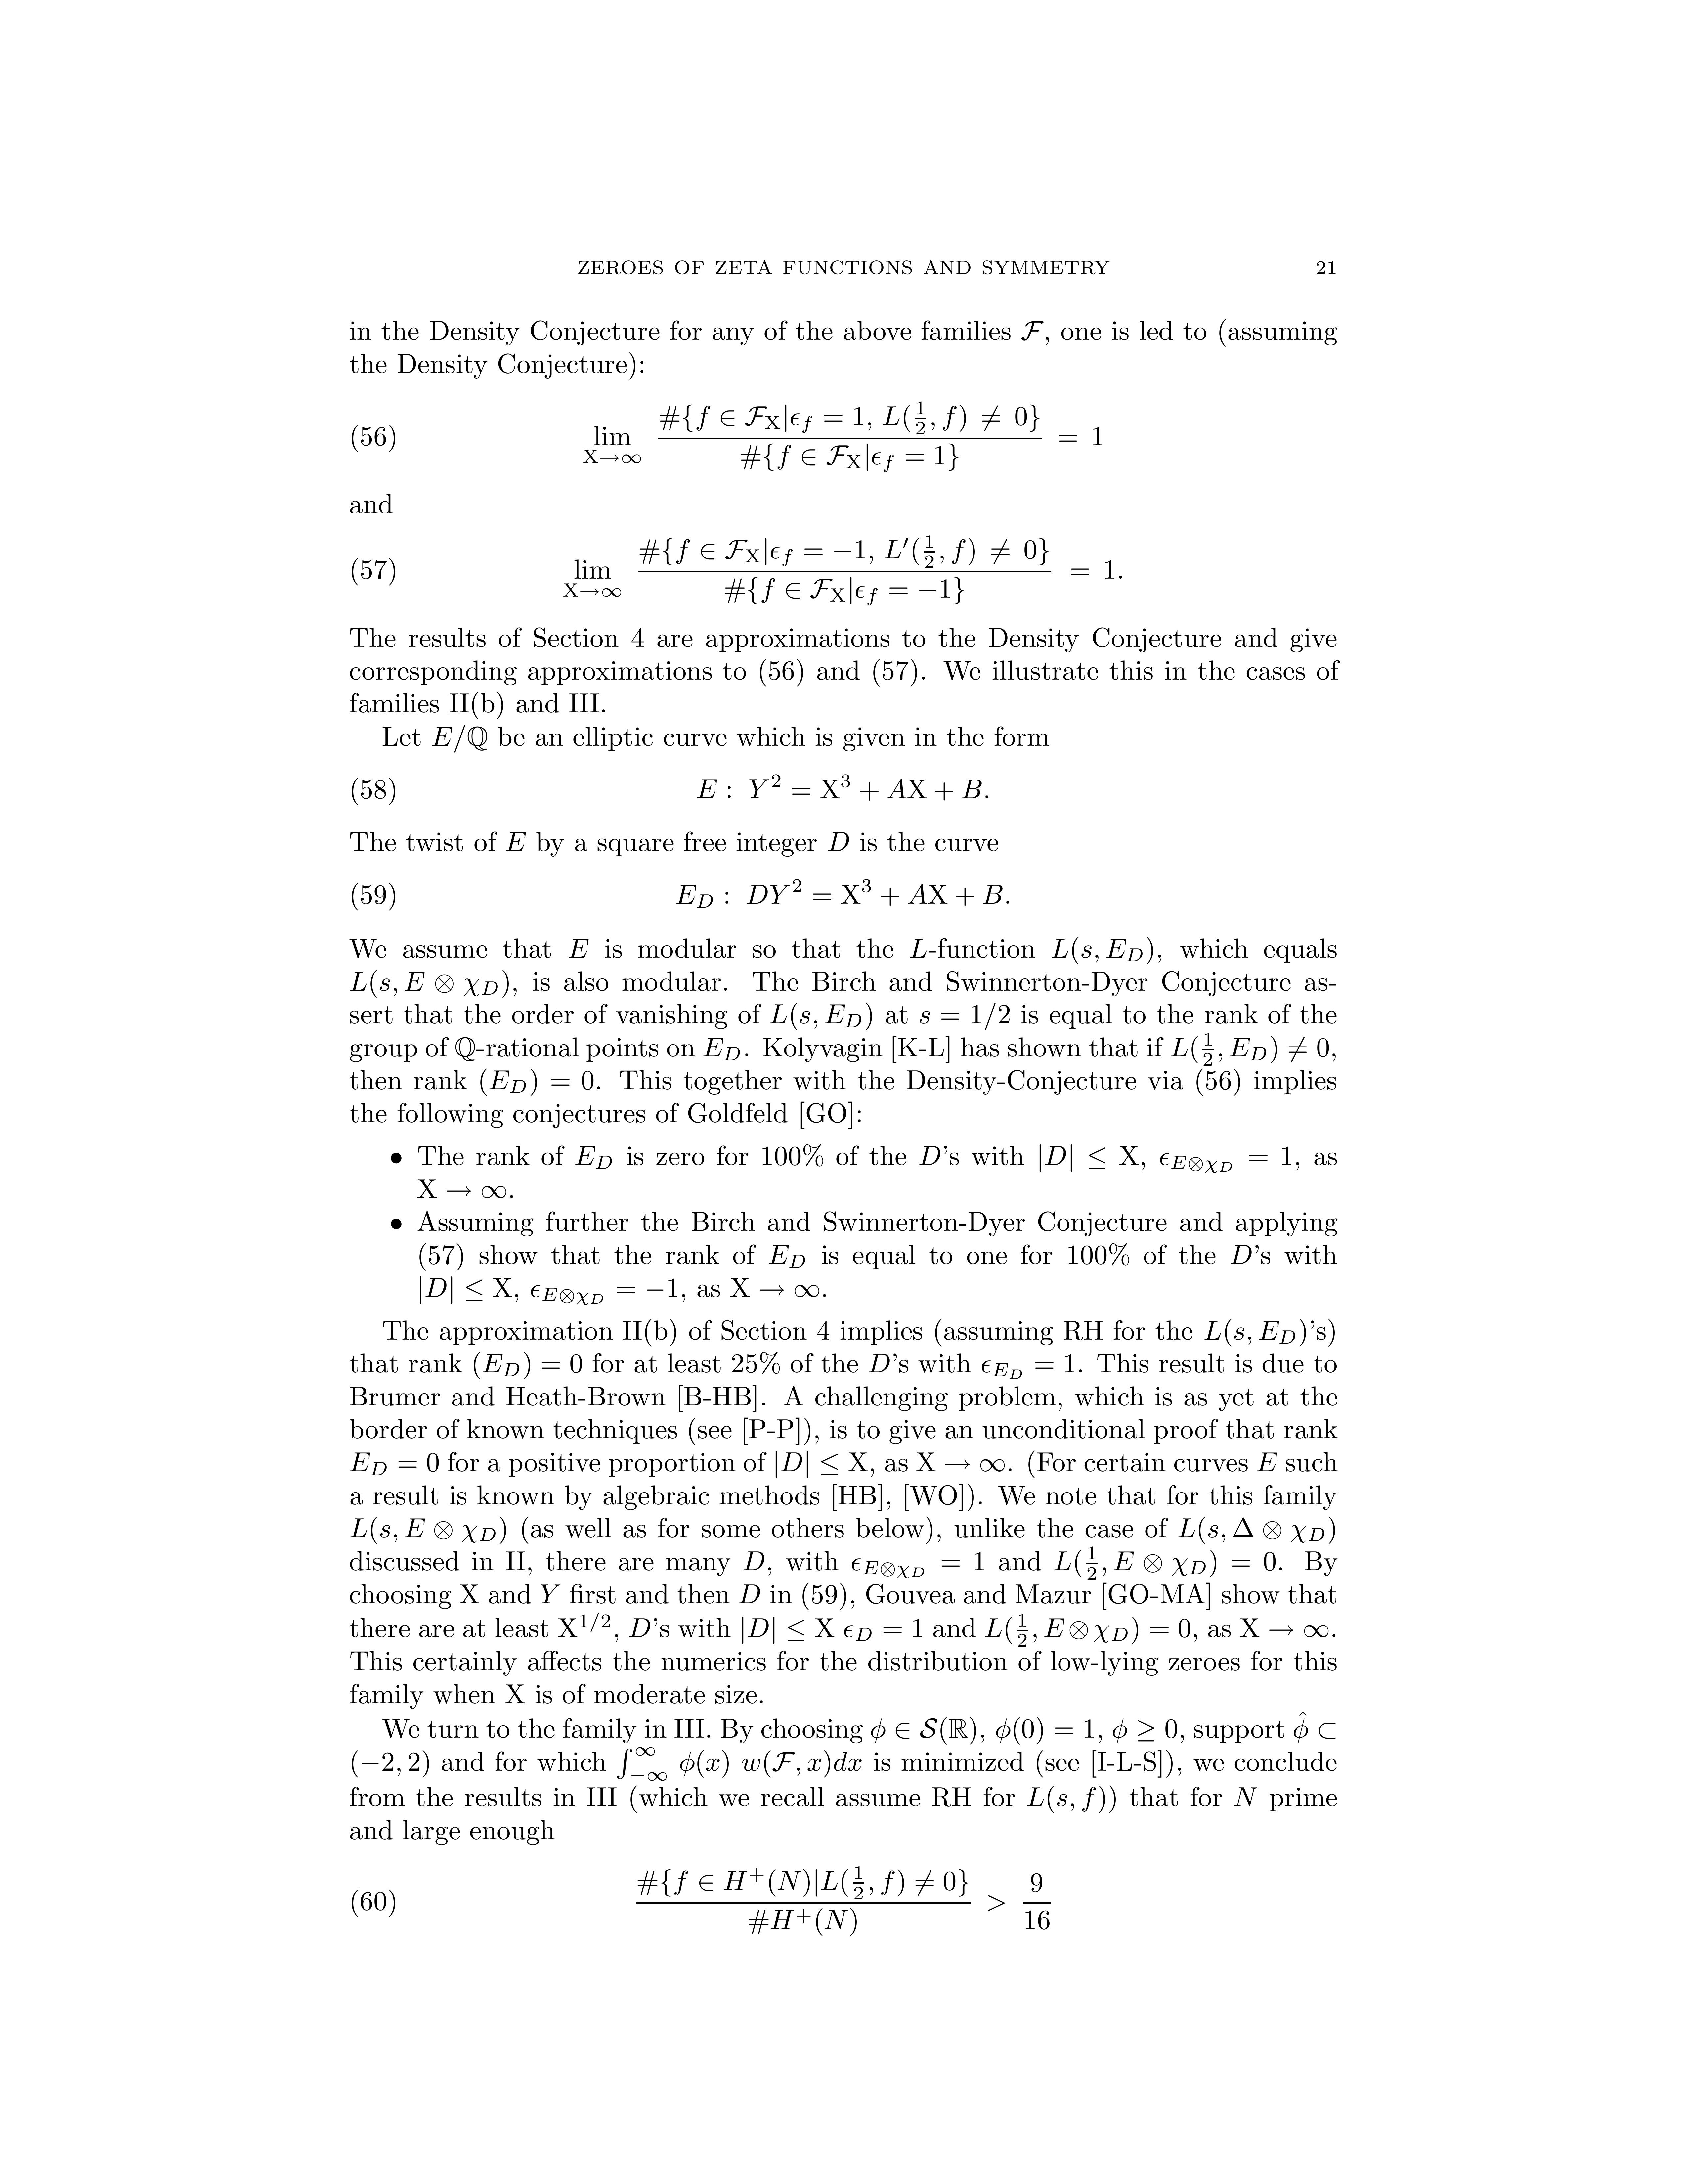maths: (564, 535, 1115, 605), (583, 401, 1102, 472), (636, 1867, 1051, 1936), (677, 879, 1003, 908), (617, 1746, 861, 1780), (1054, 1546, 1276, 1579), (696, 775, 982, 799), (985, 1613, 1189, 1647), (1171, 1032, 1329, 1065), (742, 1617, 921, 1643), (349, 970, 509, 998), (1178, 1517, 1334, 1544), (351, 1517, 505, 1544), (532, 1278, 677, 1305), (1161, 1147, 1292, 1172), (852, 1553, 983, 1578), (480, 1069, 594, 1096), (870, 1718, 983, 1744), (473, 1353, 581, 1379), (996, 1718, 1102, 1744), (1040, 1145, 1145, 1172), (1051, 938, 1154, 964), (771, 1003, 872, 1030), (420, 1276, 517, 1303), (776, 1450, 867, 1478), (920, 1003, 1010, 1030), (982, 1354, 1074, 1379), (351, 1750, 429, 1778), (1093, 1750, 1161, 1778), (349, 1454, 438, 1475), (1258, 1319, 1325, 1346), (730, 1278, 819, 1298), (916, 1452, 1005, 1471), (558, 1613, 618, 1642), (418, 1179, 505, 1198), (1113, 1718, 1177, 1743), (1240, 1618, 1327, 1636), (432, 725, 487, 752), (1294, 1711, 1336, 1743), (1028, 1785, 1074, 1813), (1205, 1319, 1251, 1346), (704, 1037, 739, 1060), (576, 1147, 611, 1168), (769, 1246, 805, 1268), (1083, 1785, 1104, 1813), (455, 1037, 475, 1062), (1021, 321, 1044, 340), (1233, 1787, 1256, 1806), (828, 831, 849, 851), (1230, 1244, 1251, 1264), (742, 1551, 764, 1571), (505, 1684, 525, 1704), (920, 1147, 941, 1165), (868, 1354, 890, 1372), (739, 1585, 760, 1603), (629, 1618, 650, 1636), (505, 833, 525, 851), (569, 940, 588, 957), (1256, 1454, 1276, 1471), (459, 1585, 478, 1603), (540, 1585, 560, 1603), (911, 938, 927, 957)
